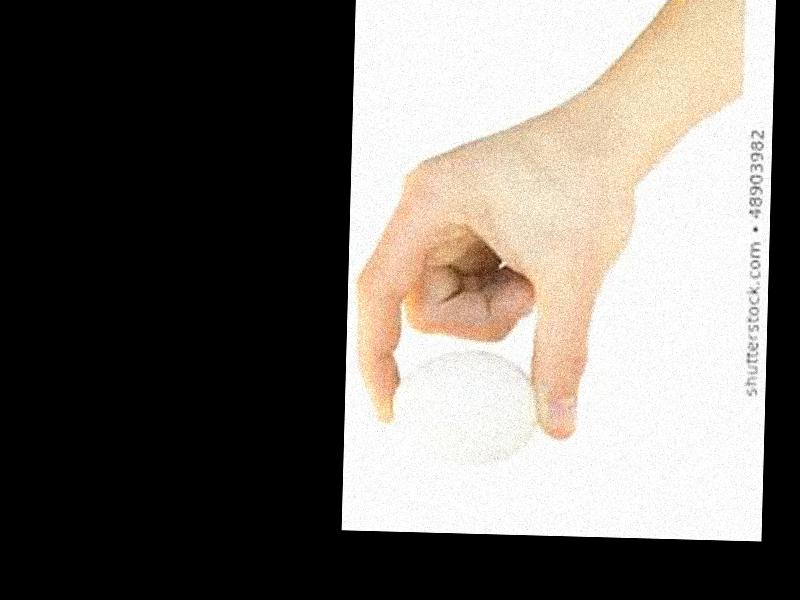Eggs: (391, 348, 541, 463)
